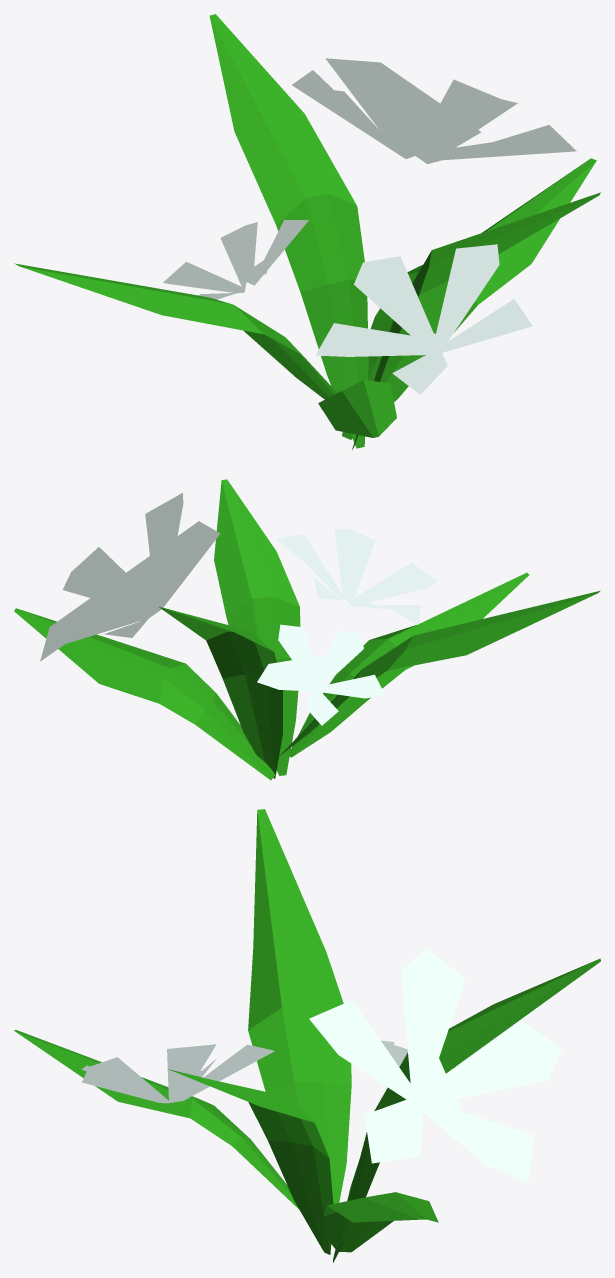
File: fleur_blanche_2.fbx
The picture shows the model from 3 angles, top to bottom: view 1: azimuth 30°, elevation 25°; view 2: azimuth 150°, elevation 25°; view 3: azimuth 270°, elevation 25°; orthographic projection. The views are drawn at different scales.
Visible parts, largest first — view 1: fleur_blanche_2.001; view 2: fleur_blanche_2.001; view 3: fleur_blanche_2.001.
Part boxes in pixels (<box>): fleur_blanche_2.001: <box>14,14,600,449</box>; fleur_blanche_2.001: <box>14,479,600,780</box>; fleur_blanche_2.001: <box>14,809,600,1262</box>.
Bounding box in the file's own units: 129 × 64.47 × 107.
